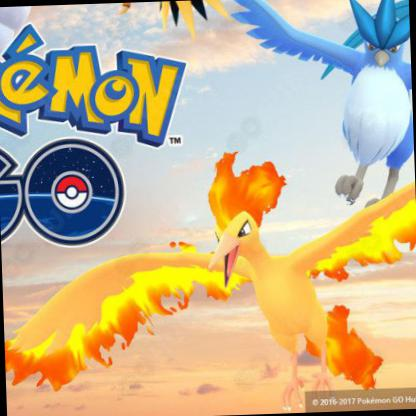Lavados: (0, 5, 415, 413)
